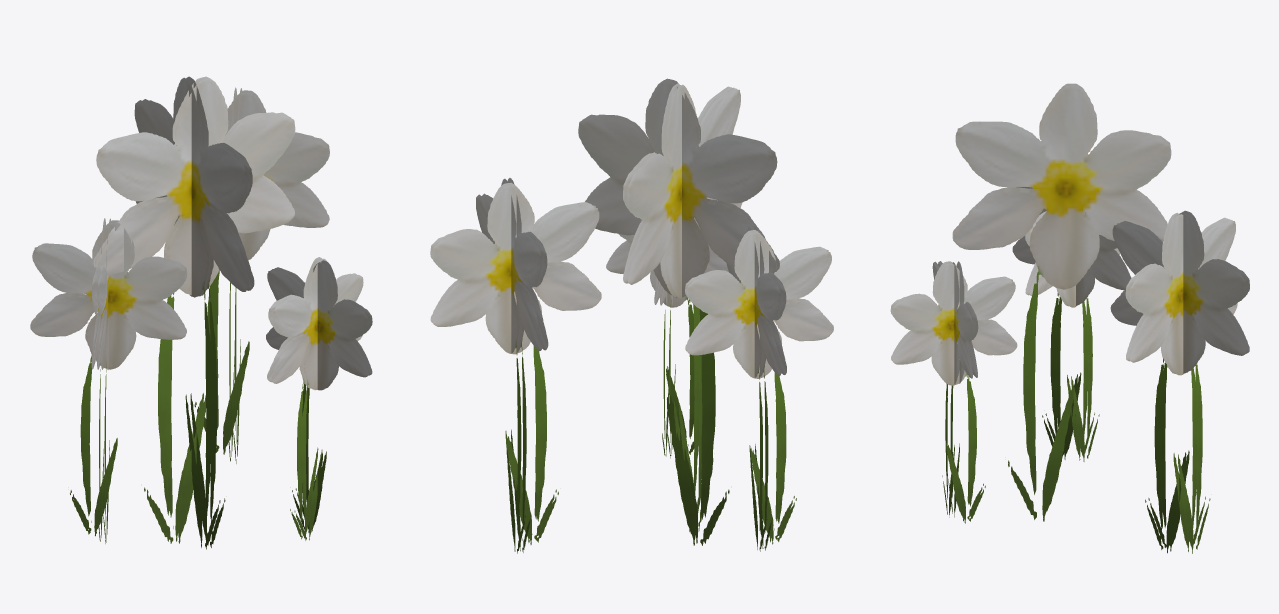
Rendered from Flowers3.fbx.
3 renders of one model, left to right at view 1: azimuth 30°, elevation 25°; view 2: azimuth 150°, elevation 25°; view 3: azimuth 270°, elevation 25°, orthographic. The views are drawn at different scales.
Parts seen in each view (by area): view 1: n_grass_diff_0_22.004; view 2: n_grass_diff_0_22.004; view 3: n_grass_diff_0_22.004.
Part boxes in pixels (x1,y1,x2,y2): n_grass_diff_0_22.004: (30,76,372,549); n_grass_diff_0_22.004: (430,78,833,553); n_grass_diff_0_22.004: (890,83,1249,553).
Size of the model in its own units: 67.33 by 94.27 by 71.98.
